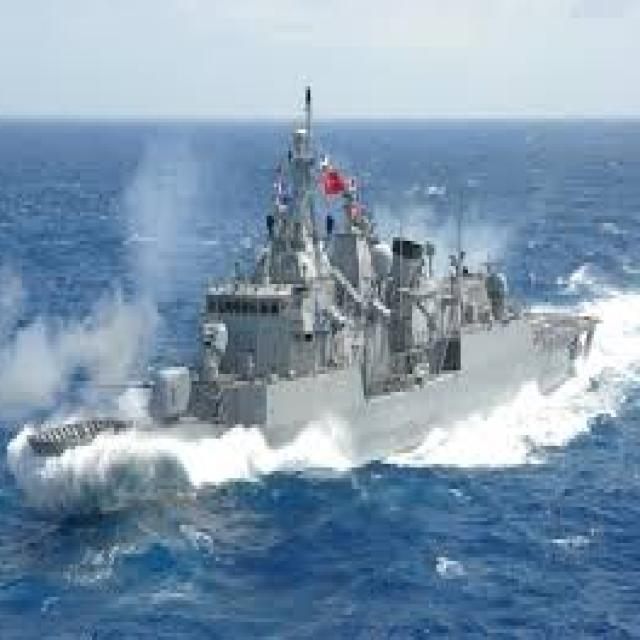navalvessels: (26, 80, 607, 539)
